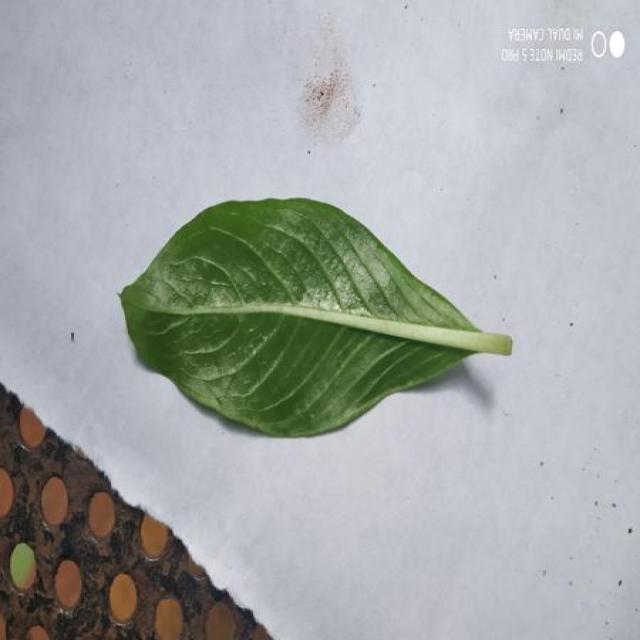catharanthus: (122, 199, 512, 436)
